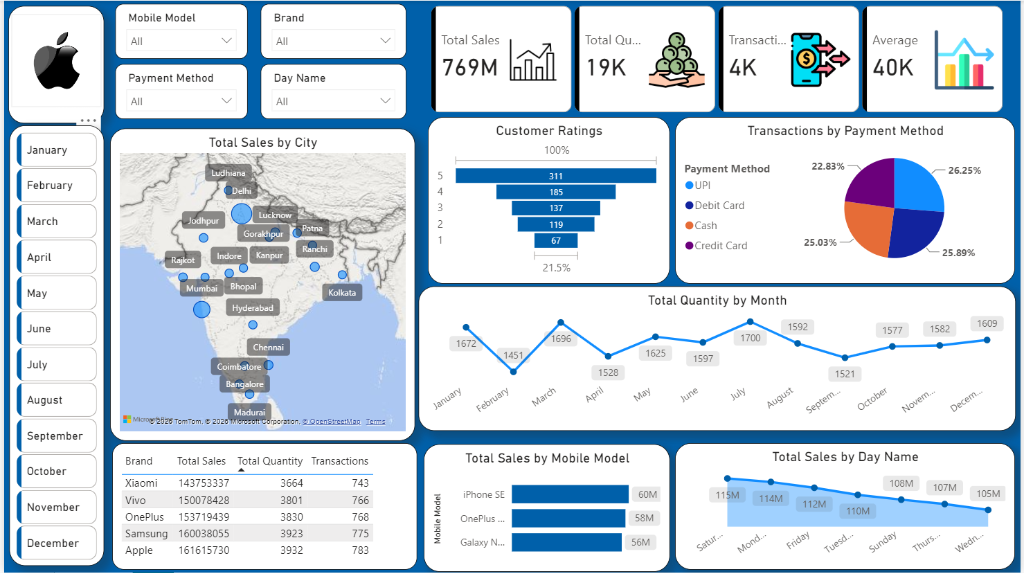

The page's visual inventory and layout, read from the dashboard file:
{"tool":"powerbi","page":{"name":"Page 1","canvas":[1280,720],"ordinal":0},"visuals":[{"type":"shape","box":[5.5,6.9,120.8,148.2],"z":0},{"type":"image","box":[9.6,16.5,113.9,116.6],"z":1000},{"type":"shape","box":[6.9,156.4,119.4,554.4],"z":2000},{"type":"advancedSlicerVisual","fields":{"Values":["Sales_Data.Date.Variation.Date Hierarchy.Month"]},"box":[11,160.5,111.1,548.9],"z":3000},{"type":"cardVisual","fields":{"Data":["Sales_Data.Total Sales","Sales_Data.Total Quantity","Sales_Data.Transactions","Sales_Data.Average"]},"box":[531.7,6.7,732.9,139.3],"z":4000},{"type":"map","fields":{"Category":["Sales_Data.City"],"Size":["Sales_Data.Total Sales"]},"box":[132.9,160.8,384.1,393.1],"z":5000},{"type":"lineChart","fields":{"Category":["Sales_Data.Date.Variation.Date Hierarchy.Month","Sales_Data.Date.Variation.Date Hierarchy.Day"],"Y":["Sales_Data.Total Quantity"]},"box":[521.7,360,751.7,181.7],"z":6000},{"type":"clusteredBarChart","fields":{"Category":["Sales_Data.Mobile Model"],"Y":["Sales_Data.Total Sales"]},"box":[528.3,558.5,310.1,160.5],"z":7000},{"type":"pieChart","fields":{"Category":["Sales_Data.Payment Method"],"Y":["Sales_Data.Transactions"]},"box":[845,146.7,428.1,209.9],"z":8000},{"type":"funnel","title":"Customer Ratings","fields":{"Category":["Sales_Data.Customer Ratings"],"Y":["CountNonNull(Sales_Data.Customer Ratings)"]},"box":[533.3,146.7,304.6,209.9],"z":9000},{"type":"areaChart","fields":{"Category":["Sales_Data.Day Name"],"Y":["Sales_Data.Total Sales"]},"box":[845.3,557.1,428.1,159.2],"z":10000},{"type":"tableEx","fields":{"Values":["Sales_Data.Brand","Sales_Data.Total Sales","Sales_Data.Total Quantity","Sales_Data.Transactions"]},"box":[135.8,557.1,384.2,159.2],"z":11000},{"type":"slicer","fields":{"Values":["Sales_Data.Mobile Model"]},"box":[139.3,4.5,166.6,69.7],"z":12000},{"type":"slicer","fields":{"Values":["Sales_Data.Payment Method"]},"box":[139.3,80.3,166.6,69.7],"z":13000},{"type":"slicer","fields":{"Values":["Sales_Data.Brand"]},"box":[322.5,4.5,183.2,69.7],"z":14000},{"type":"slicer","fields":{"Values":["Sales_Data.Day Name"]},"box":[322.5,80.3,183.2,69.7],"z":15000}]}

Visuals, with their boxes in screenshot pixels (x1, y1, x2, y2), scaled from the page's 1280x720 canvas onto the 1024x573 screenshot:
shape: (left=4, top=5, right=101, bottom=123)
image: (left=8, top=13, right=99, bottom=106)
shape: (left=6, top=124, right=101, bottom=566)
advancedSlicerVisual - Sales_Data.Date.Variation.Date Hierarchy.Month: (left=9, top=128, right=98, bottom=565)
cardVisual - Sales_Data.Total Sales x Sales_Data.Total Quantity: (left=425, top=5, right=1012, bottom=116)
map - Sales_Data.City x Sales_Data.Total Sales: (left=106, top=128, right=414, bottom=441)
lineChart - Sales_Data.Date.Variation.Date Hierarchy.Month x Sales_Data.Date.Variation.Date Hierarchy.Day: (left=417, top=286, right=1019, bottom=431)
clusteredBarChart - Sales_Data.Mobile Model x Sales_Data.Total Sales: (left=423, top=444, right=671, bottom=572)
pieChart - Sales_Data.Payment Method x Sales_Data.Transactions: (left=676, top=117, right=1018, bottom=284)
"Customer Ratings" funnel: (left=427, top=117, right=670, bottom=284)
areaChart - Sales_Data.Day Name x Sales_Data.Total Sales: (left=676, top=443, right=1019, bottom=570)
tableEx - Sales_Data.Brand x Sales_Data.Total Sales: (left=109, top=443, right=416, bottom=570)
slicer - Sales_Data.Mobile Model: (left=111, top=4, right=245, bottom=59)
slicer - Sales_Data.Payment Method: (left=111, top=64, right=245, bottom=119)
slicer - Sales_Data.Brand: (left=258, top=4, right=405, bottom=59)
slicer - Sales_Data.Day Name: (left=258, top=64, right=405, bottom=119)
